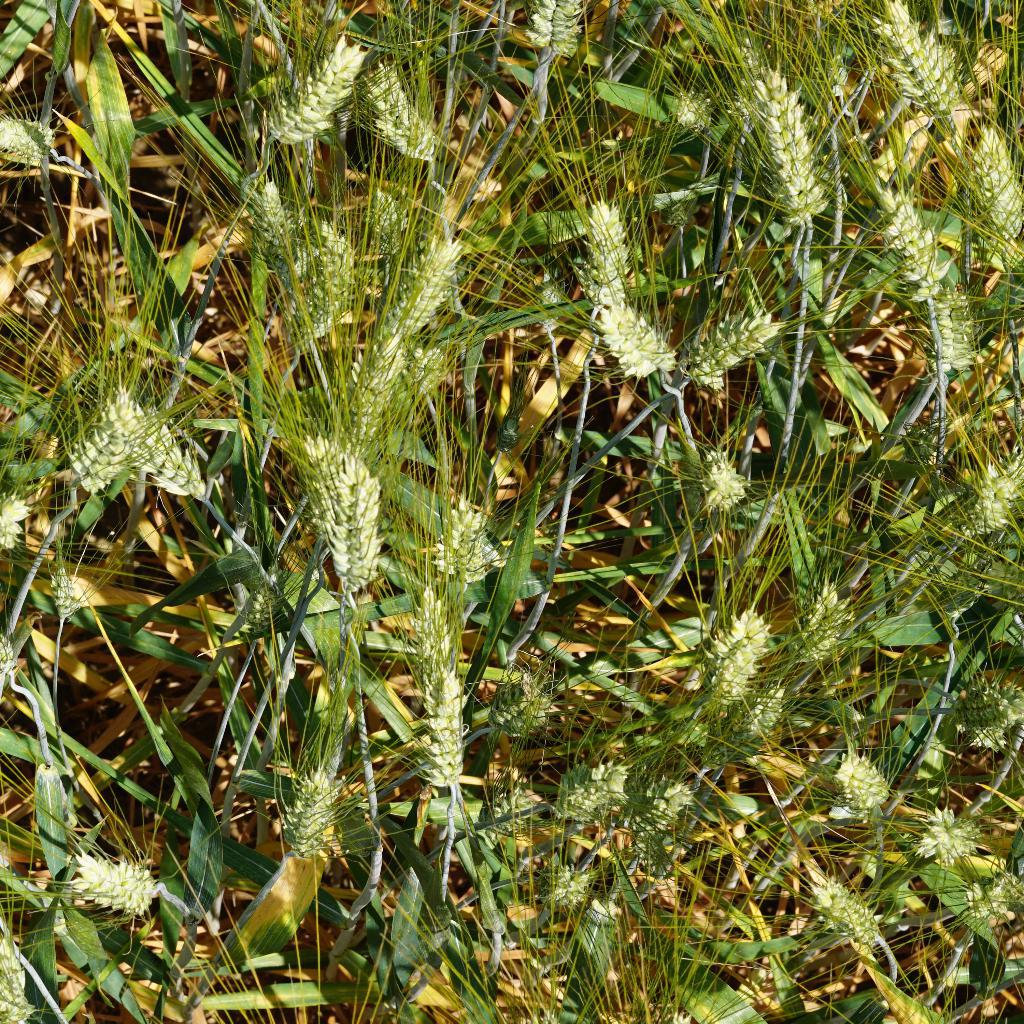0-0: (716, 20, 806, 228), (857, 166, 960, 311), (746, 66, 832, 238), (277, 425, 365, 579), (863, 0, 960, 139), (102, 386, 213, 504), (263, 29, 371, 150), (326, 331, 413, 471), (672, 296, 792, 390), (939, 425, 1024, 557), (370, 234, 465, 348), (288, 218, 361, 357), (60, 381, 140, 507), (958, 110, 1024, 257), (317, 454, 382, 600), (692, 596, 778, 705), (775, 573, 861, 671), (588, 299, 680, 387), (362, 64, 441, 166), (277, 756, 348, 864), (52, 851, 165, 917), (478, 654, 558, 744), (934, 675, 1024, 752), (919, 282, 983, 390), (706, 676, 789, 759), (624, 766, 706, 850), (796, 875, 886, 950), (574, 193, 629, 315), (415, 659, 466, 789), (404, 578, 463, 687), (540, 756, 636, 818), (820, 740, 892, 822), (245, 174, 300, 280), (909, 800, 993, 869), (435, 488, 488, 587), (950, 861, 1024, 929), (934, 545, 993, 629), (520, 0, 605, 56), (468, 779, 541, 840), (690, 444, 750, 516), (0, 918, 39, 1024), (806, 28, 853, 104), (981, 546, 1024, 624), (889, 414, 951, 468), (365, 184, 407, 262), (723, 68, 769, 139), (529, 859, 593, 908), (400, 341, 446, 407), (525, 262, 565, 335), (591, 1002, 723, 1024), (0, 120, 64, 164), (663, 85, 717, 134), (243, 580, 287, 635), (0, 483, 32, 557), (0, 592, 22, 693), (500, 997, 577, 1024), (51, 562, 76, 630), (492, 403, 521, 456), (659, 196, 689, 231)
